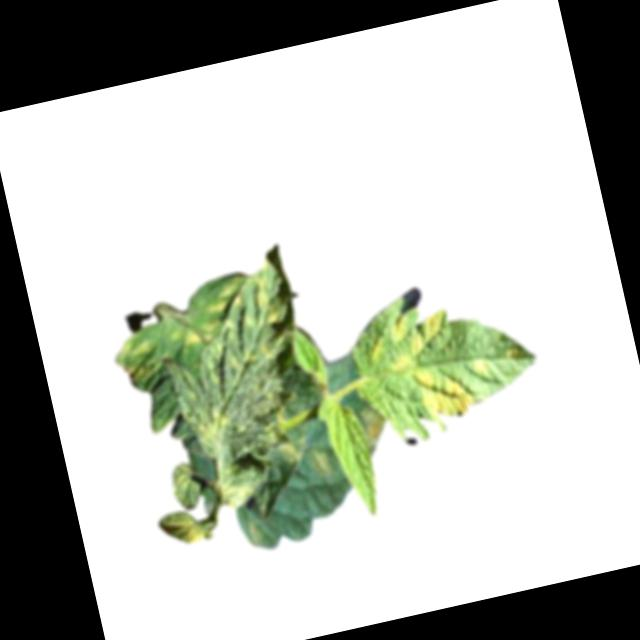Leaf_Mold: (364, 304, 456, 381), (409, 360, 474, 426), (238, 260, 294, 332), (112, 332, 163, 385), (186, 398, 234, 448), (159, 506, 211, 551), (170, 312, 223, 351), (353, 405, 390, 458), (199, 280, 238, 315), (275, 435, 306, 469), (304, 447, 334, 479)
